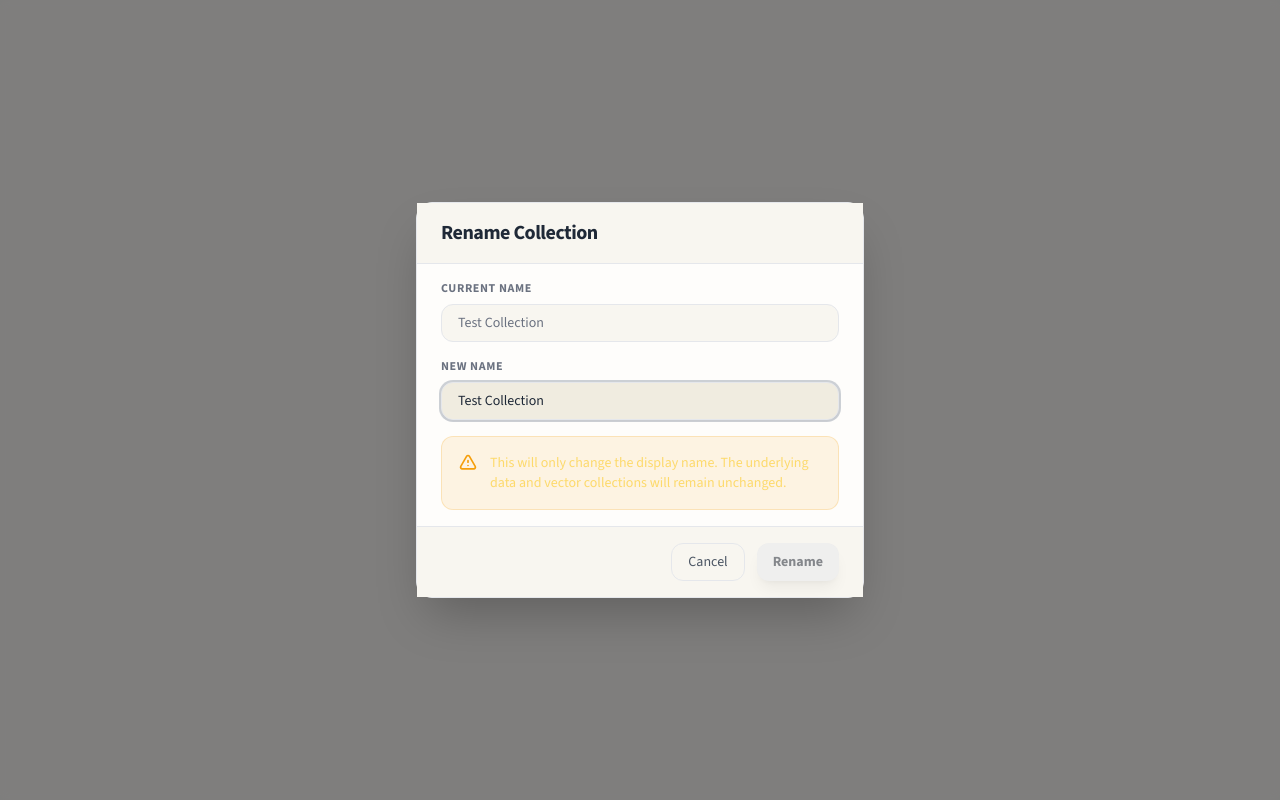
Test: RenameCollectionModal › Form Validation › should show error for empty name
Clear the input
Clear the field labelled "New Name": (640,401) [441,382,839,420]
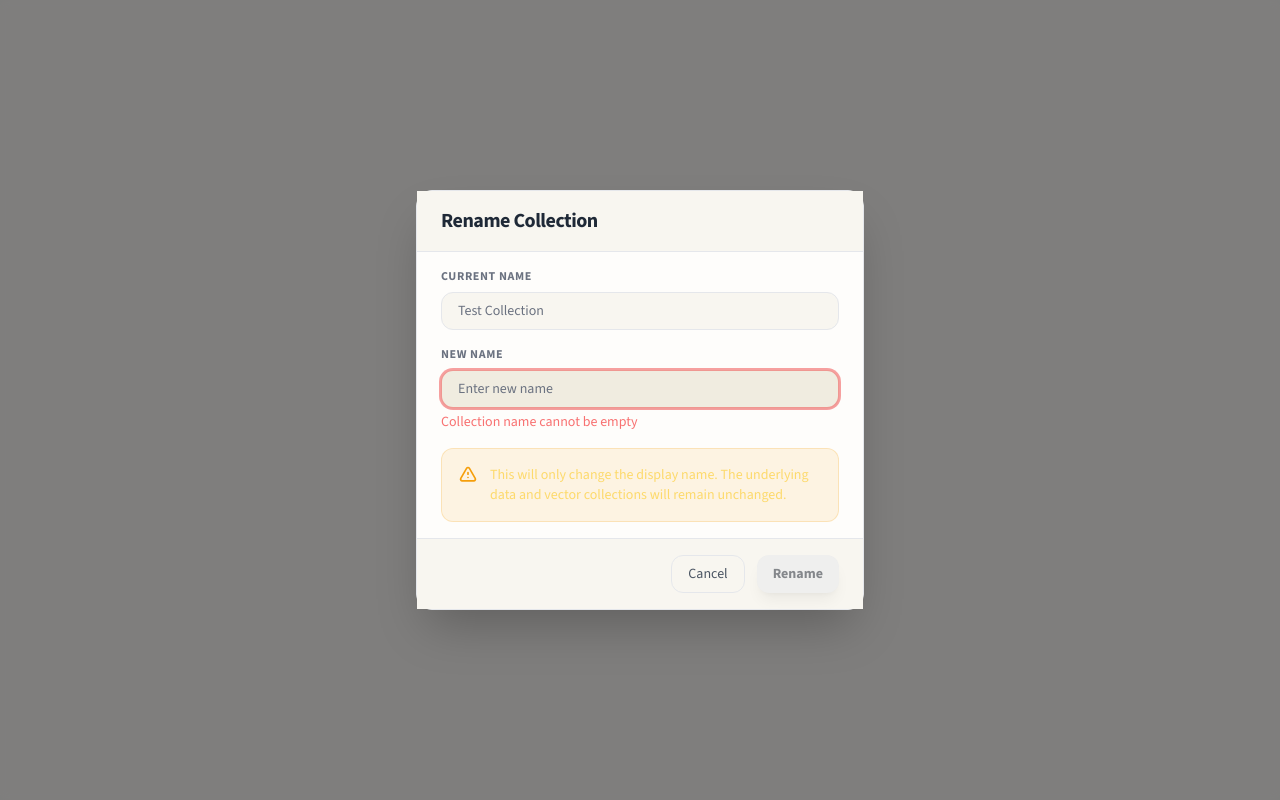
Expected: the button "Rename" is disabled, [757,555,839,593]
Result: the text "Collection name cannot be empty" is shown at [441,412,638,431]
